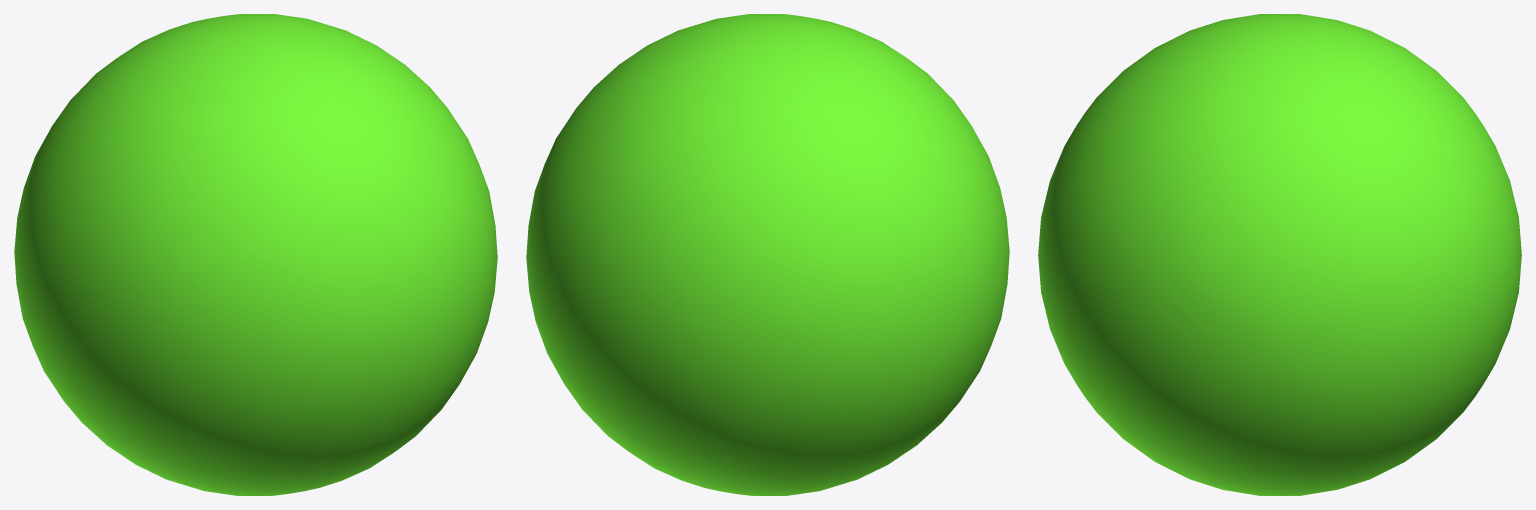
File: s_green.glb
3 views of the same model, side by side, from view 1: azimuth 30°, elevation 25°; view 2: azimuth 150°, elevation 25°; view 3: azimuth 270°, elevation 25° (orthographic).
Parts seen in each view (by area): view 1: sphere; view 2: sphere; view 3: sphere.
Part boxes in pixels (bbox=[...]): sphere: bbox=[14, 14, 497, 495]; sphere: bbox=[526, 14, 1009, 495]; sphere: bbox=[1038, 14, 1521, 495].
Size of the model in its own units: 0.6 by 0.6 by 0.6.
